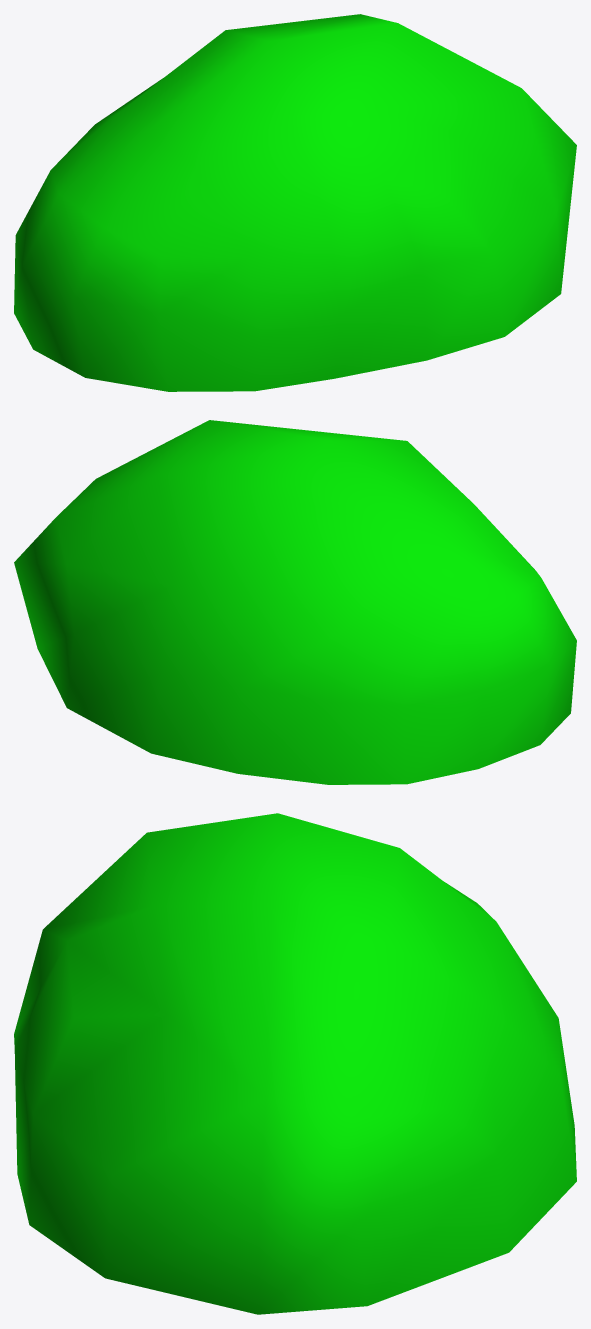
The model's file is m_rock3.fbx.
3 renders of one model, top to bottom at view 1: azimuth 30°, elevation 25°; view 2: azimuth 150°, elevation 25°; view 3: azimuth 270°, elevation 25°, orthographic. The views are drawn at different scales.
Visible parts, largest first — view 1: m_rock3; view 2: m_rock3; view 3: m_rock3.
Part boxes in pixels (bbox=[...]): m_rock3: bbox=[14, 14, 576, 391]; m_rock3: bbox=[14, 420, 576, 784]; m_rock3: bbox=[14, 813, 576, 1314].
Size of the model in its own units: 2.93 by 1.33 by 2.08.
